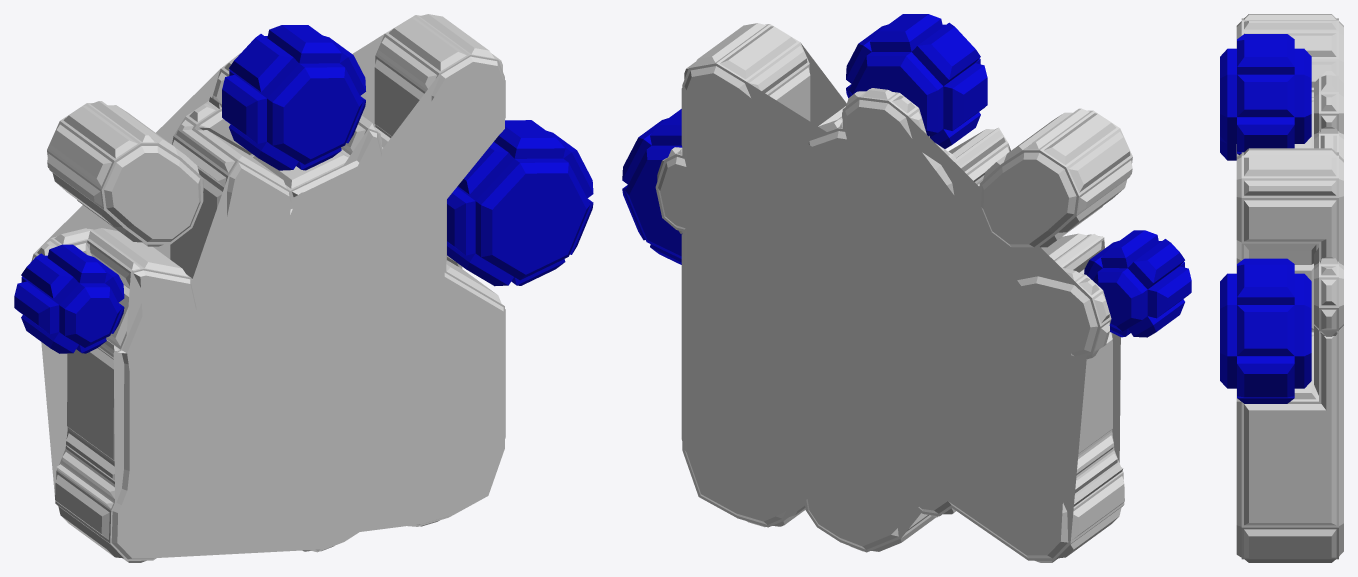
File: Ch_China_谢_01.fbx
3 views of the same model, side by side, from view 1: azimuth 30°, elevation 25°; view 2: azimuth 150°, elevation 25°; view 3: azimuth 270°, elevation 25° (orthographic). The views are drawn at different scales.
Parts seen in each view (by area): view 1: sphere1; view 2: sphere1; view 3: sphere1.
Boxes of the visible parts, box(x1,y1,x2,y2) form: sphere1: box(14, 14, 593, 562); sphere1: box(622, 14, 1191, 562); sphere1: box(1220, 14, 1343, 562).
Bounding box in the file's own units: 1.17 × 1.04 × 0.2541.
